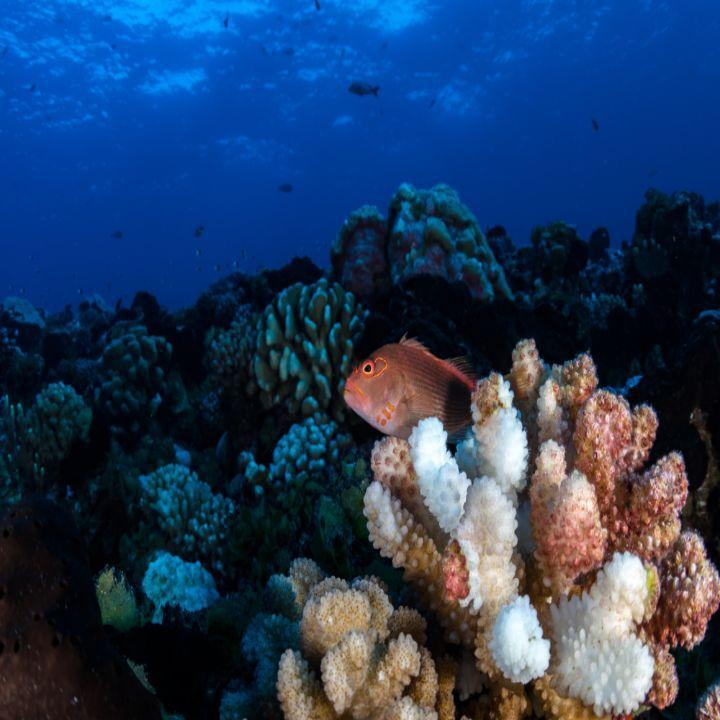Bleached disease: (347, 366, 717, 720)
Healthy Coral: (0, 312, 203, 512), (240, 278, 369, 565), (277, 578, 438, 720), (336, 430, 465, 605), (117, 449, 247, 573)
